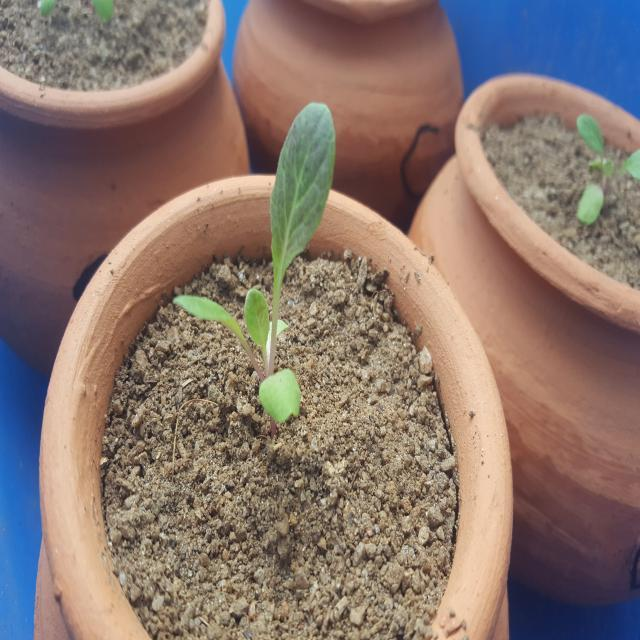Lettuce-Not-Ready-to-Harvest: (173, 103, 336, 429), (576, 114, 640, 226)
